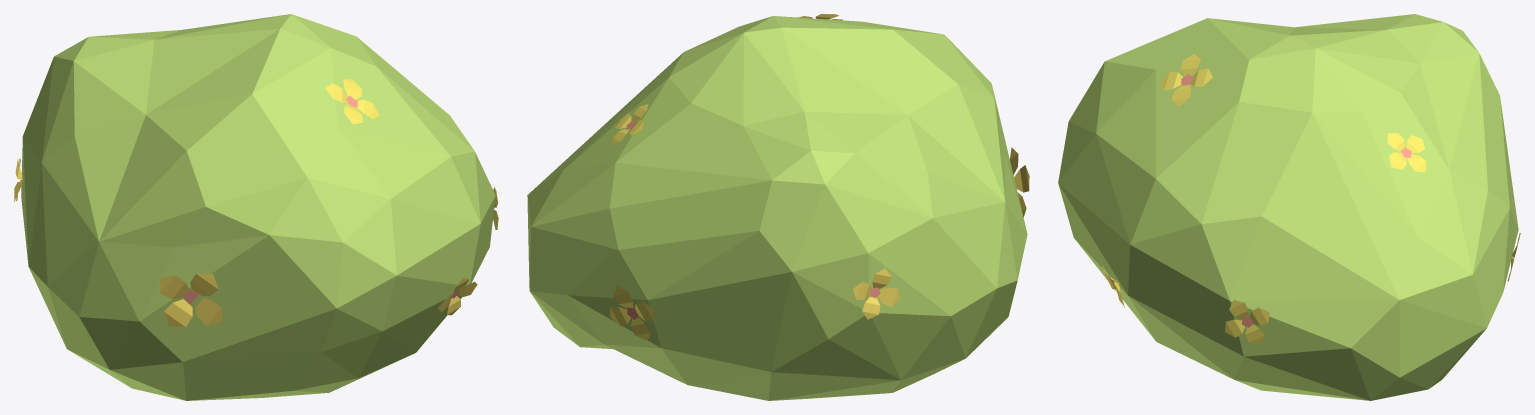
Rendered from FlowerBush_a_l_04.fbx.
3 views of the same model, side by side, from view 1: azimuth 30°, elevation 25°; view 2: azimuth 150°, elevation 25°; view 3: azimuth 270°, elevation 25° (orthographic). The views are drawn at different scales.
Parts seen in each view (by area): view 1: FlowerBush_a_l_04_LOD0; view 2: FlowerBush_a_l_04_LOD0; view 3: FlowerBush_a_l_04_LOD0.
Boxes of the visible parts, left/top/right/bottom form: FlowerBush_a_l_04_LOD0: left=14, top=14, right=498, bottom=400; FlowerBush_a_l_04_LOD0: left=527, top=14, right=1029, bottom=400; FlowerBush_a_l_04_LOD0: left=1058, top=14, right=1520, bottom=400.
Size of what is drawn, in the model's own units: 343 by 256 by 327.
